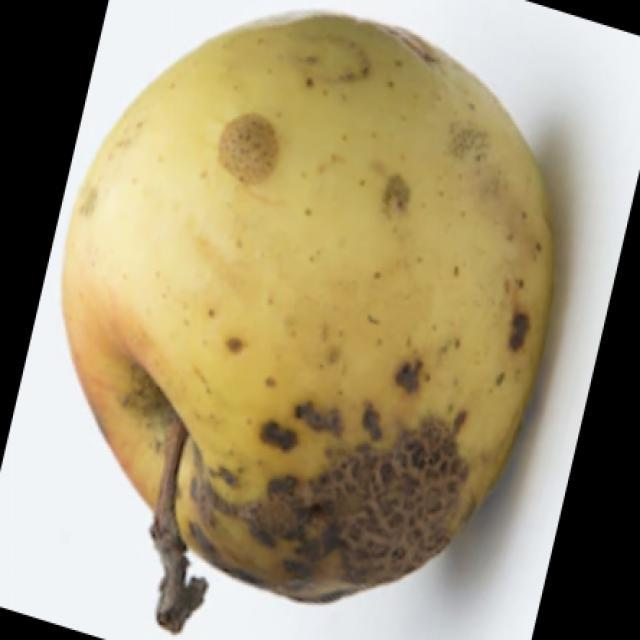Rotten: (82, 9, 565, 604)
